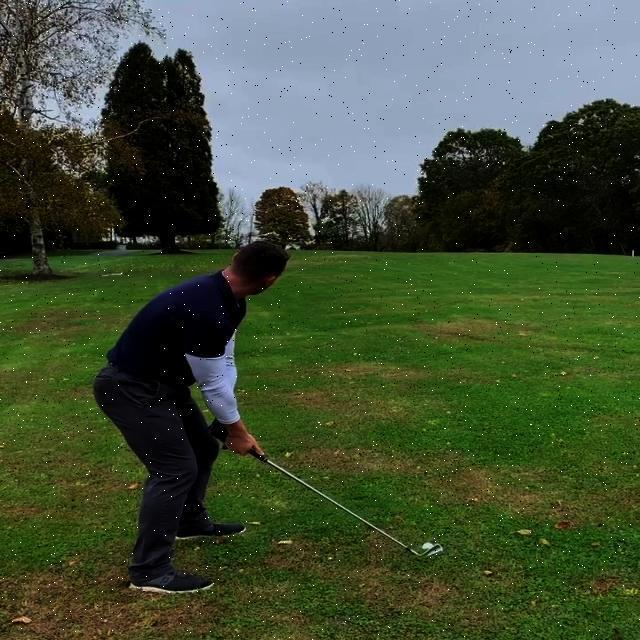ClubHead: (422, 542, 446, 560)
GolfBall: (422, 541, 433, 549)
